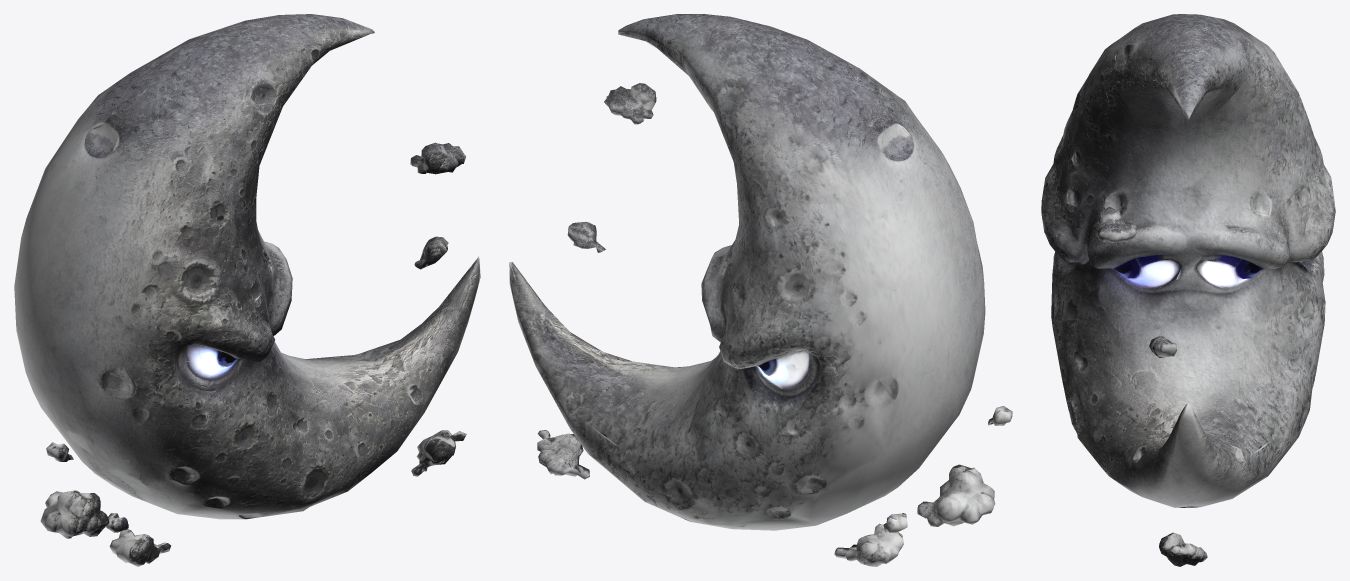
File: Meshy_AI_Wrathful_Crescent_0515160004_texture.fbx
3 views of the same model, side by side, from view 1: azimuth 30°, elevation 25°; view 2: azimuth 150°, elevation 25°; view 3: azimuth 270°, elevation 25° (orthographic). The views are drawn at different scales.
Visible parts, largest first — view 1: Mesh1.0; view 2: Mesh1.0; view 3: Mesh1.0.
Boxes of the visible parts, left/top/right/bottom form: Mesh1.0: left=14, top=14, right=480, bottom=566; Mesh1.0: left=509, top=14, right=1012, bottom=566; Mesh1.0: left=1041, top=14, right=1335, bottom=566.
Bounding box in the file's own units: 183 × 190 × 107.
Materials: 1 (1 with a texture image).
